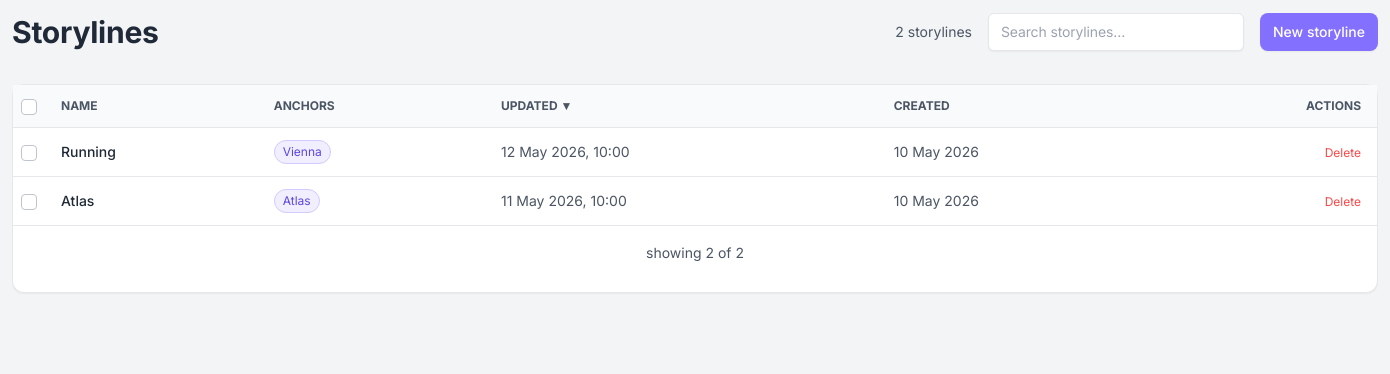
Scenario: StorylineListView › per-row checkbox toggles a single selection
Click the checkbox with test id "storyline-checkbox" next to "Running": x=29, y=153 x1=21 y1=145 x2=37 y2=161
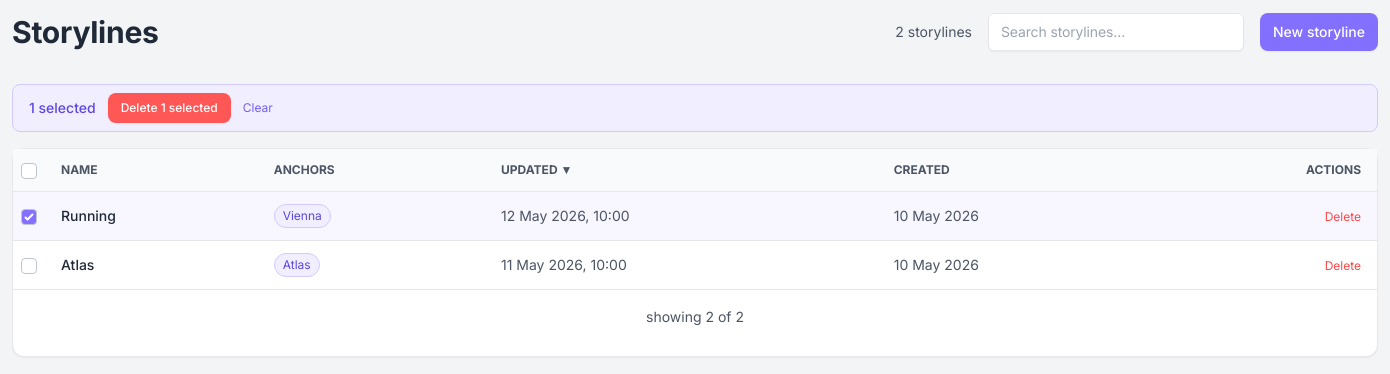
Expected: the element with test id "selection-toolbar" shows "1 selected", x1=29 y1=99 x2=96 y2=116
